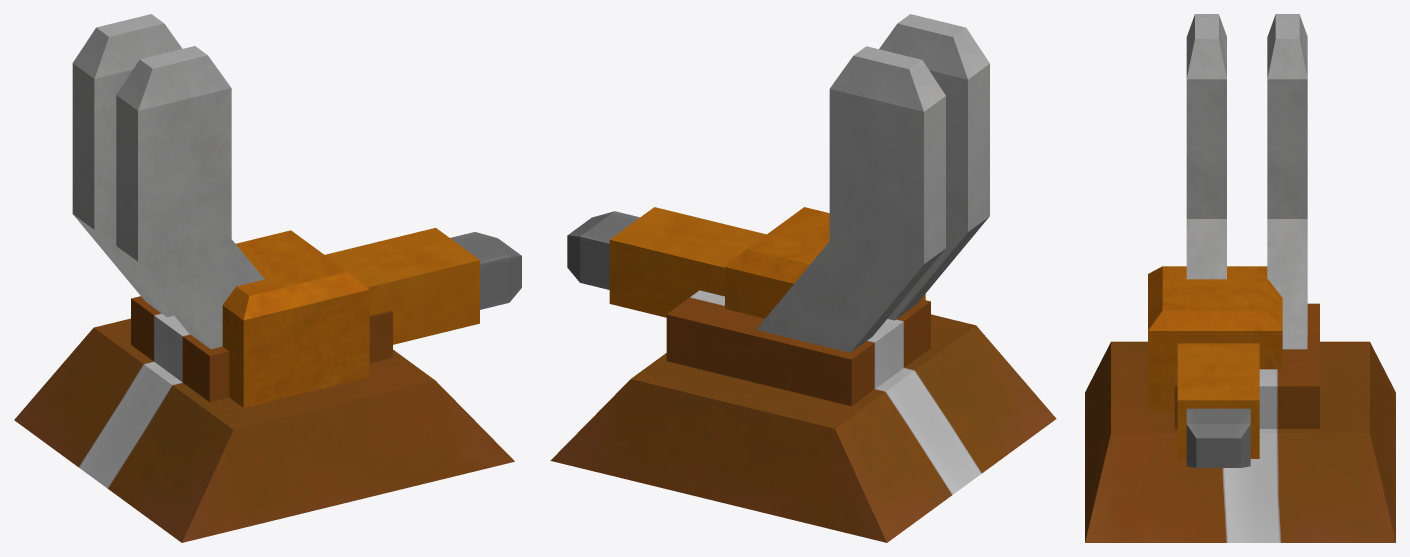
The model's file is torrenormal1.fbx.
The picture shows the model from 3 angles, left to right: view 1: azimuth 30°, elevation 25°; view 2: azimuth 150°, elevation 25°; view 3: azimuth 270°, elevation 25°; orthographic projection. The views are drawn at different scales.
Visible parts, largest first — view 1: Base, Torre; view 2: Base, Torre; view 3: Base, Torre.
Part boxes in pixels (left/top/right/bottom): Base: left=14, top=14, right=514, bottom=542; Torre: left=222, top=227, right=521, bottom=407; Base: left=550, top=14, right=1056, bottom=542; Torre: left=567, top=207, right=925, bottom=318; Base: left=1085, top=14, right=1395, bottom=542; Torre: left=1148, top=266, right=1282, bottom=467.
Size of the model in its own units: 243 by 246 by 177.
